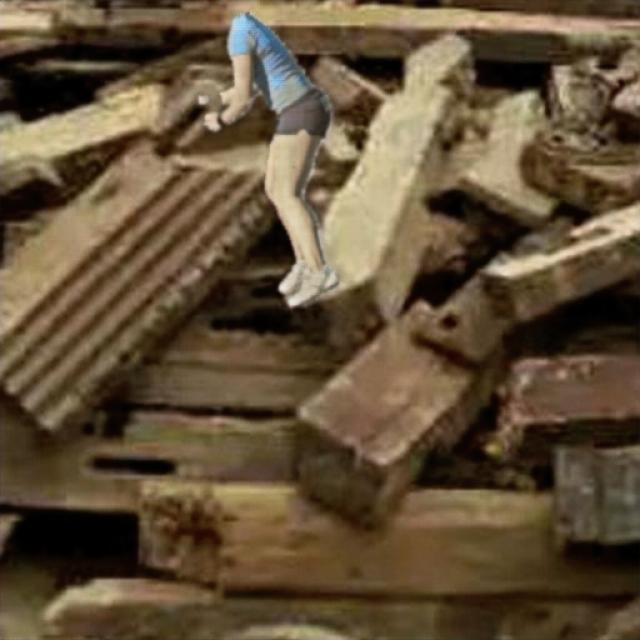Person in Rubble: (198, 12, 338, 308)
